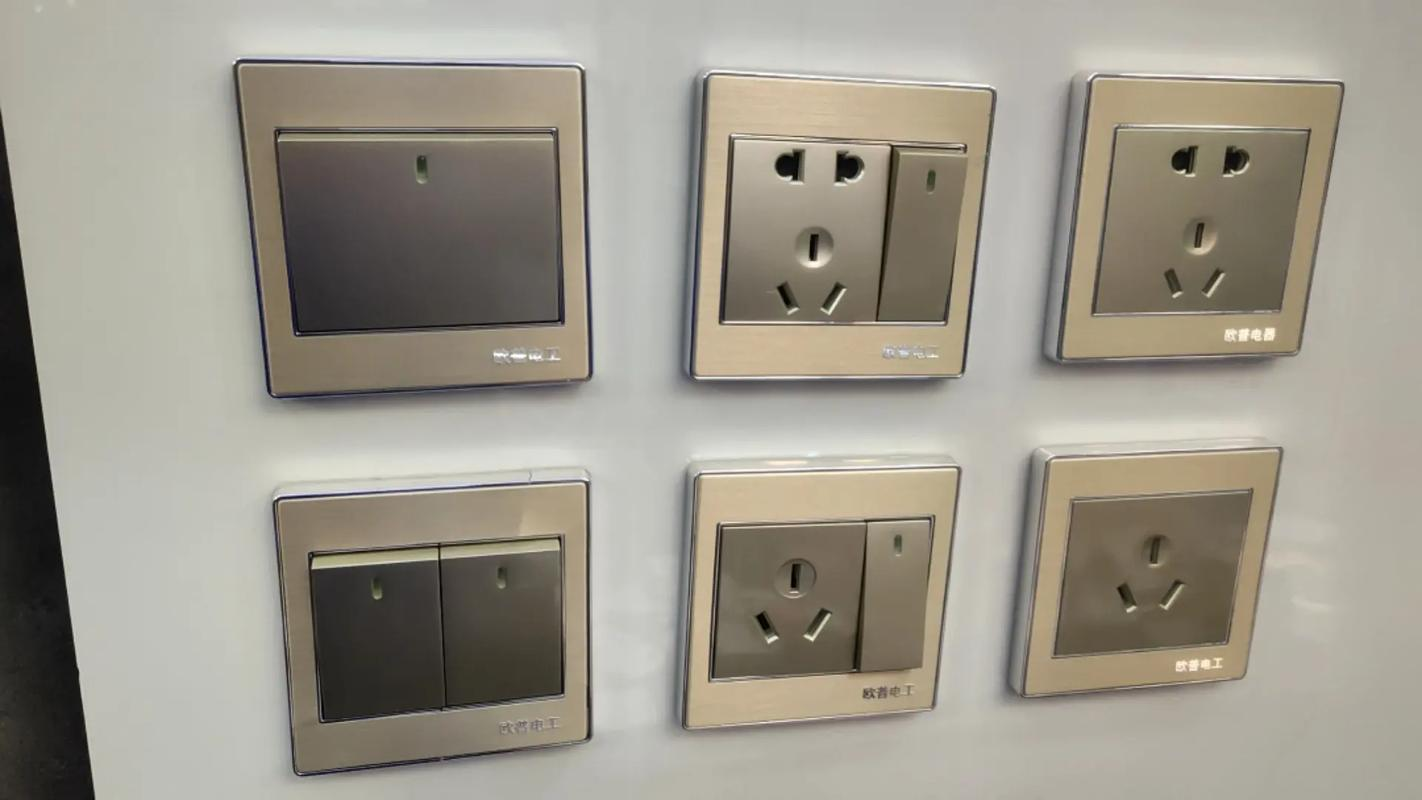button: (233, 56, 598, 401), (687, 65, 1000, 394), (267, 468, 596, 780), (683, 455, 964, 739)
